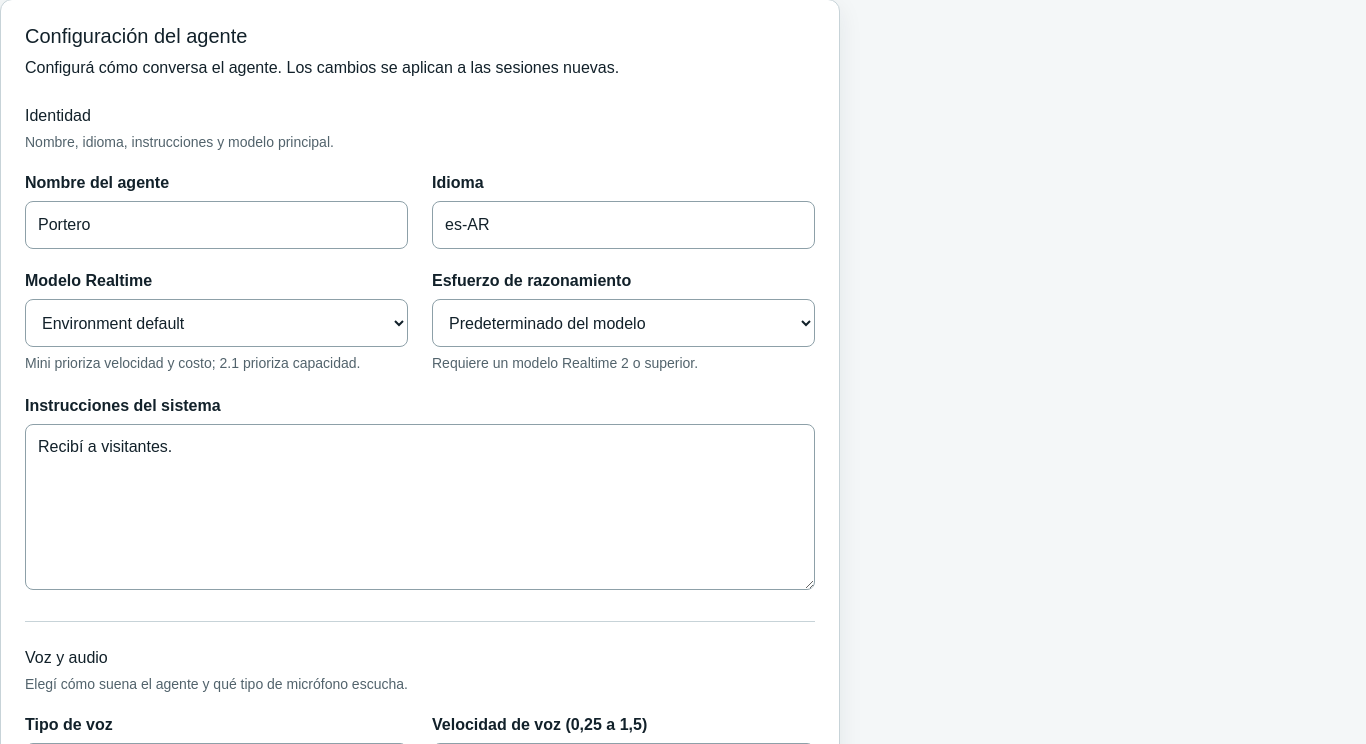
Test: AgentForm › announces inline validation and preserves edits on a rejected save
The image size is (1366, 744).
Clear the field labelled "Nombre del agente" at (216, 225), box x1=25 y1=201 x2=408 y2=249
(page scrolled)
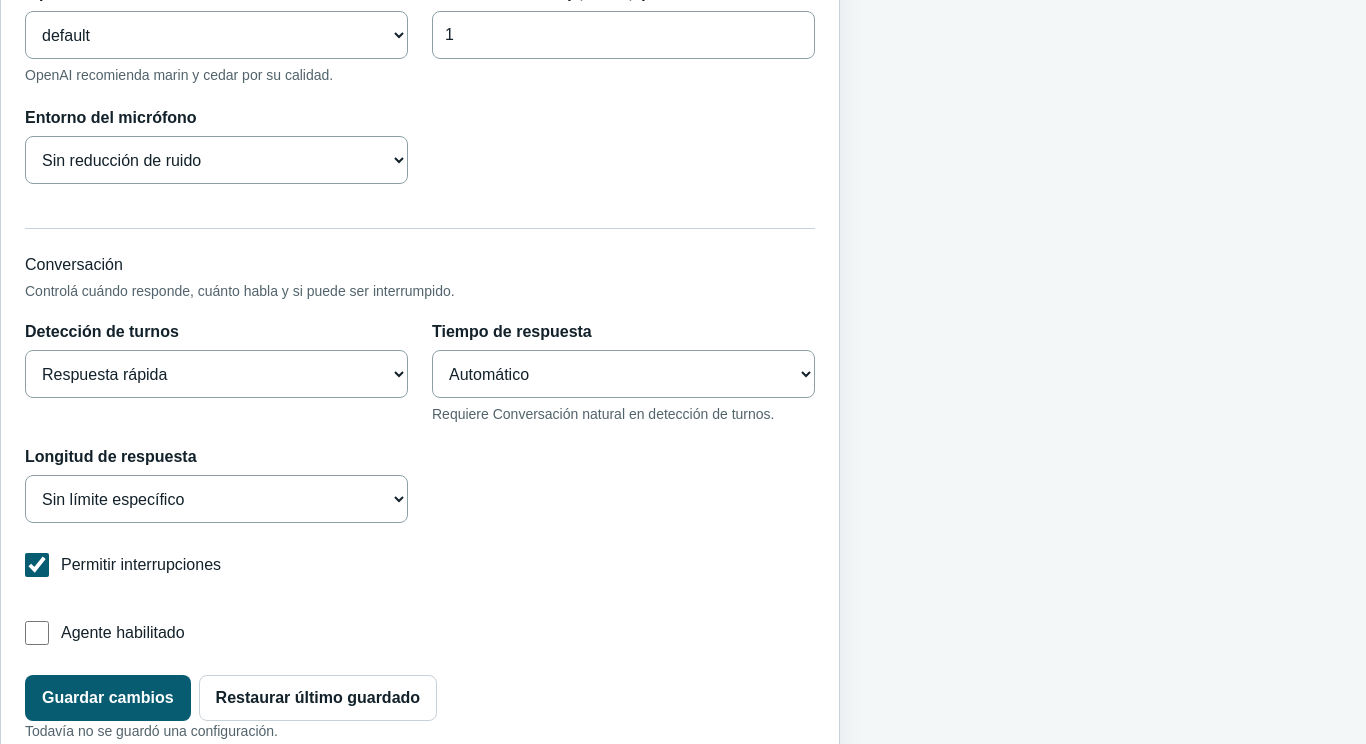
Click the button "Guardar cambios" at (108, 698), box x1=25 y1=675 x2=191 y2=721
(page scrolled)
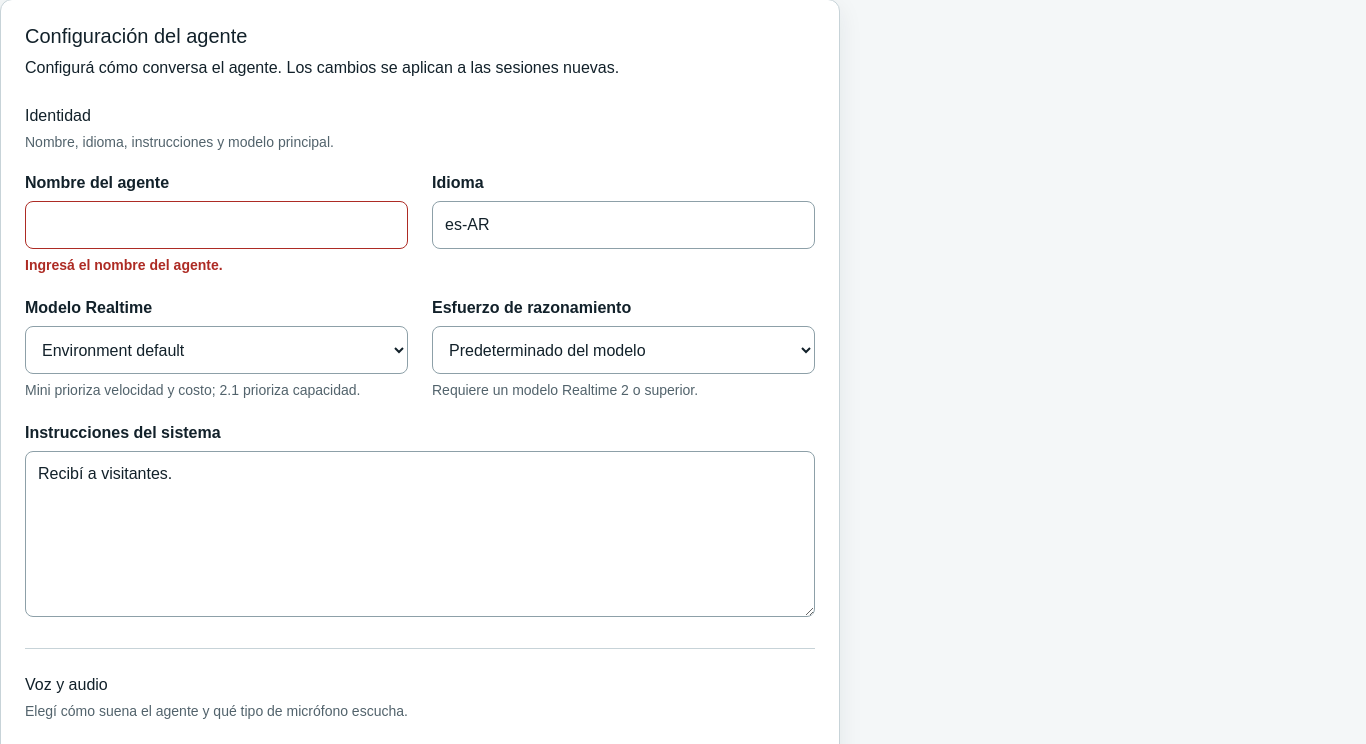
Check: the message shows "nombre", box x1=25 y1=257 x2=223 y2=273
Type "Recepción" into the field labelled "Nombre del agente" at (216, 225), box x1=25 y1=201 x2=408 y2=249
(page scrolled)
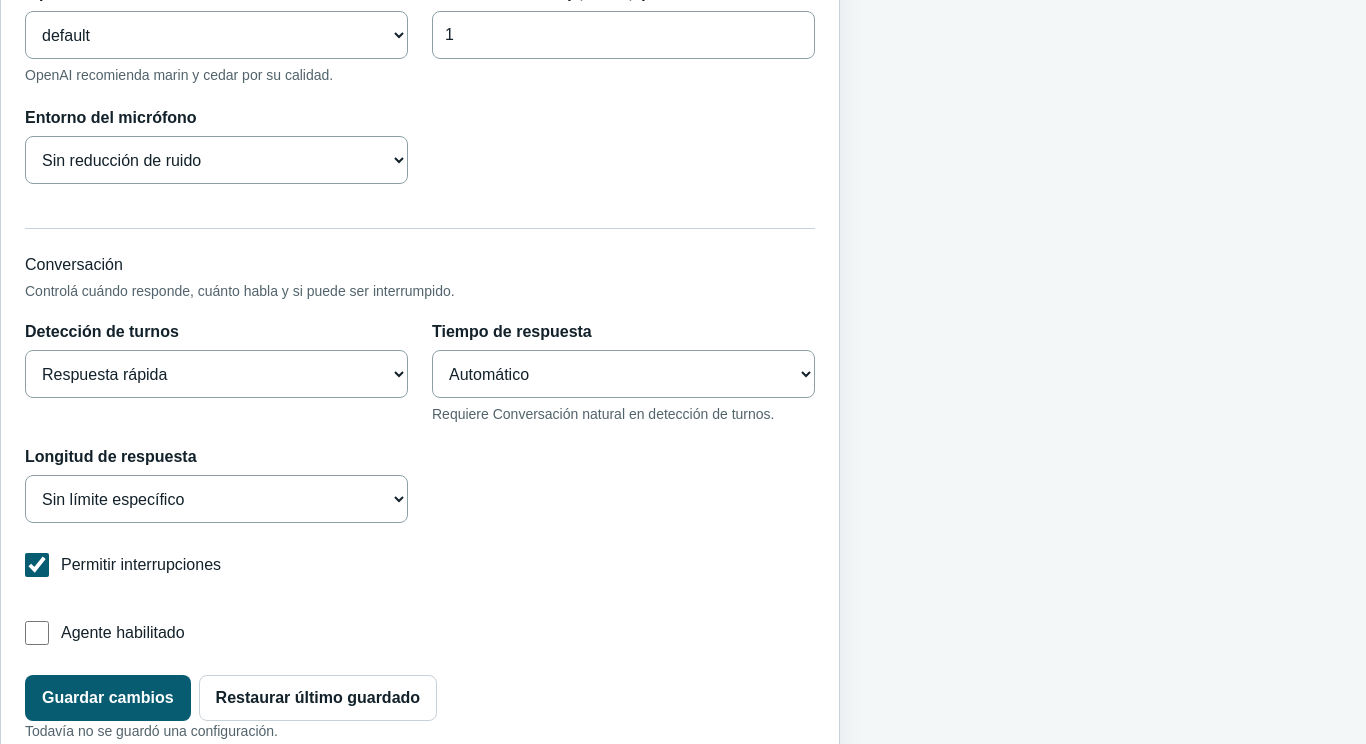
Click the button "Guardar cambios" at (108, 698), box x1=25 y1=675 x2=191 y2=721
(page scrolled)
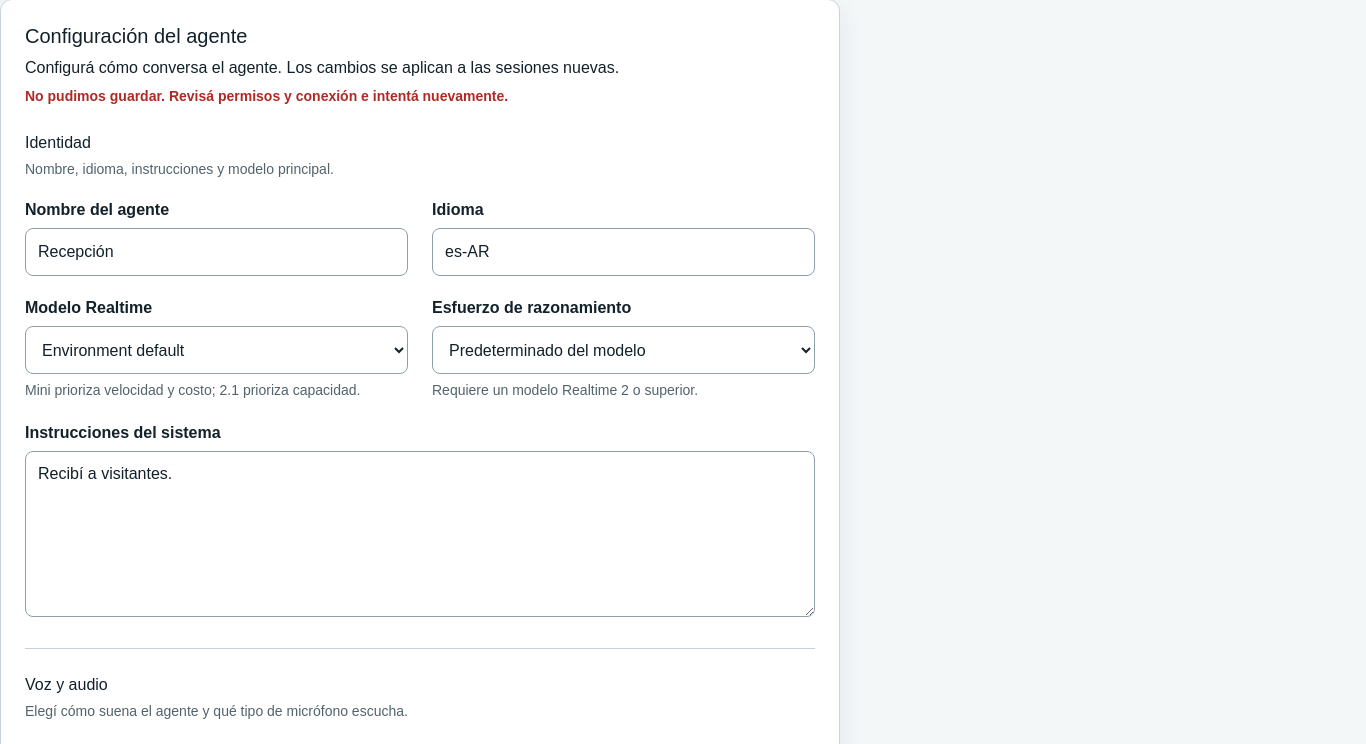
Check: the message shows "No pudimos guardar", box x1=25 y1=88 x2=508 y2=104
